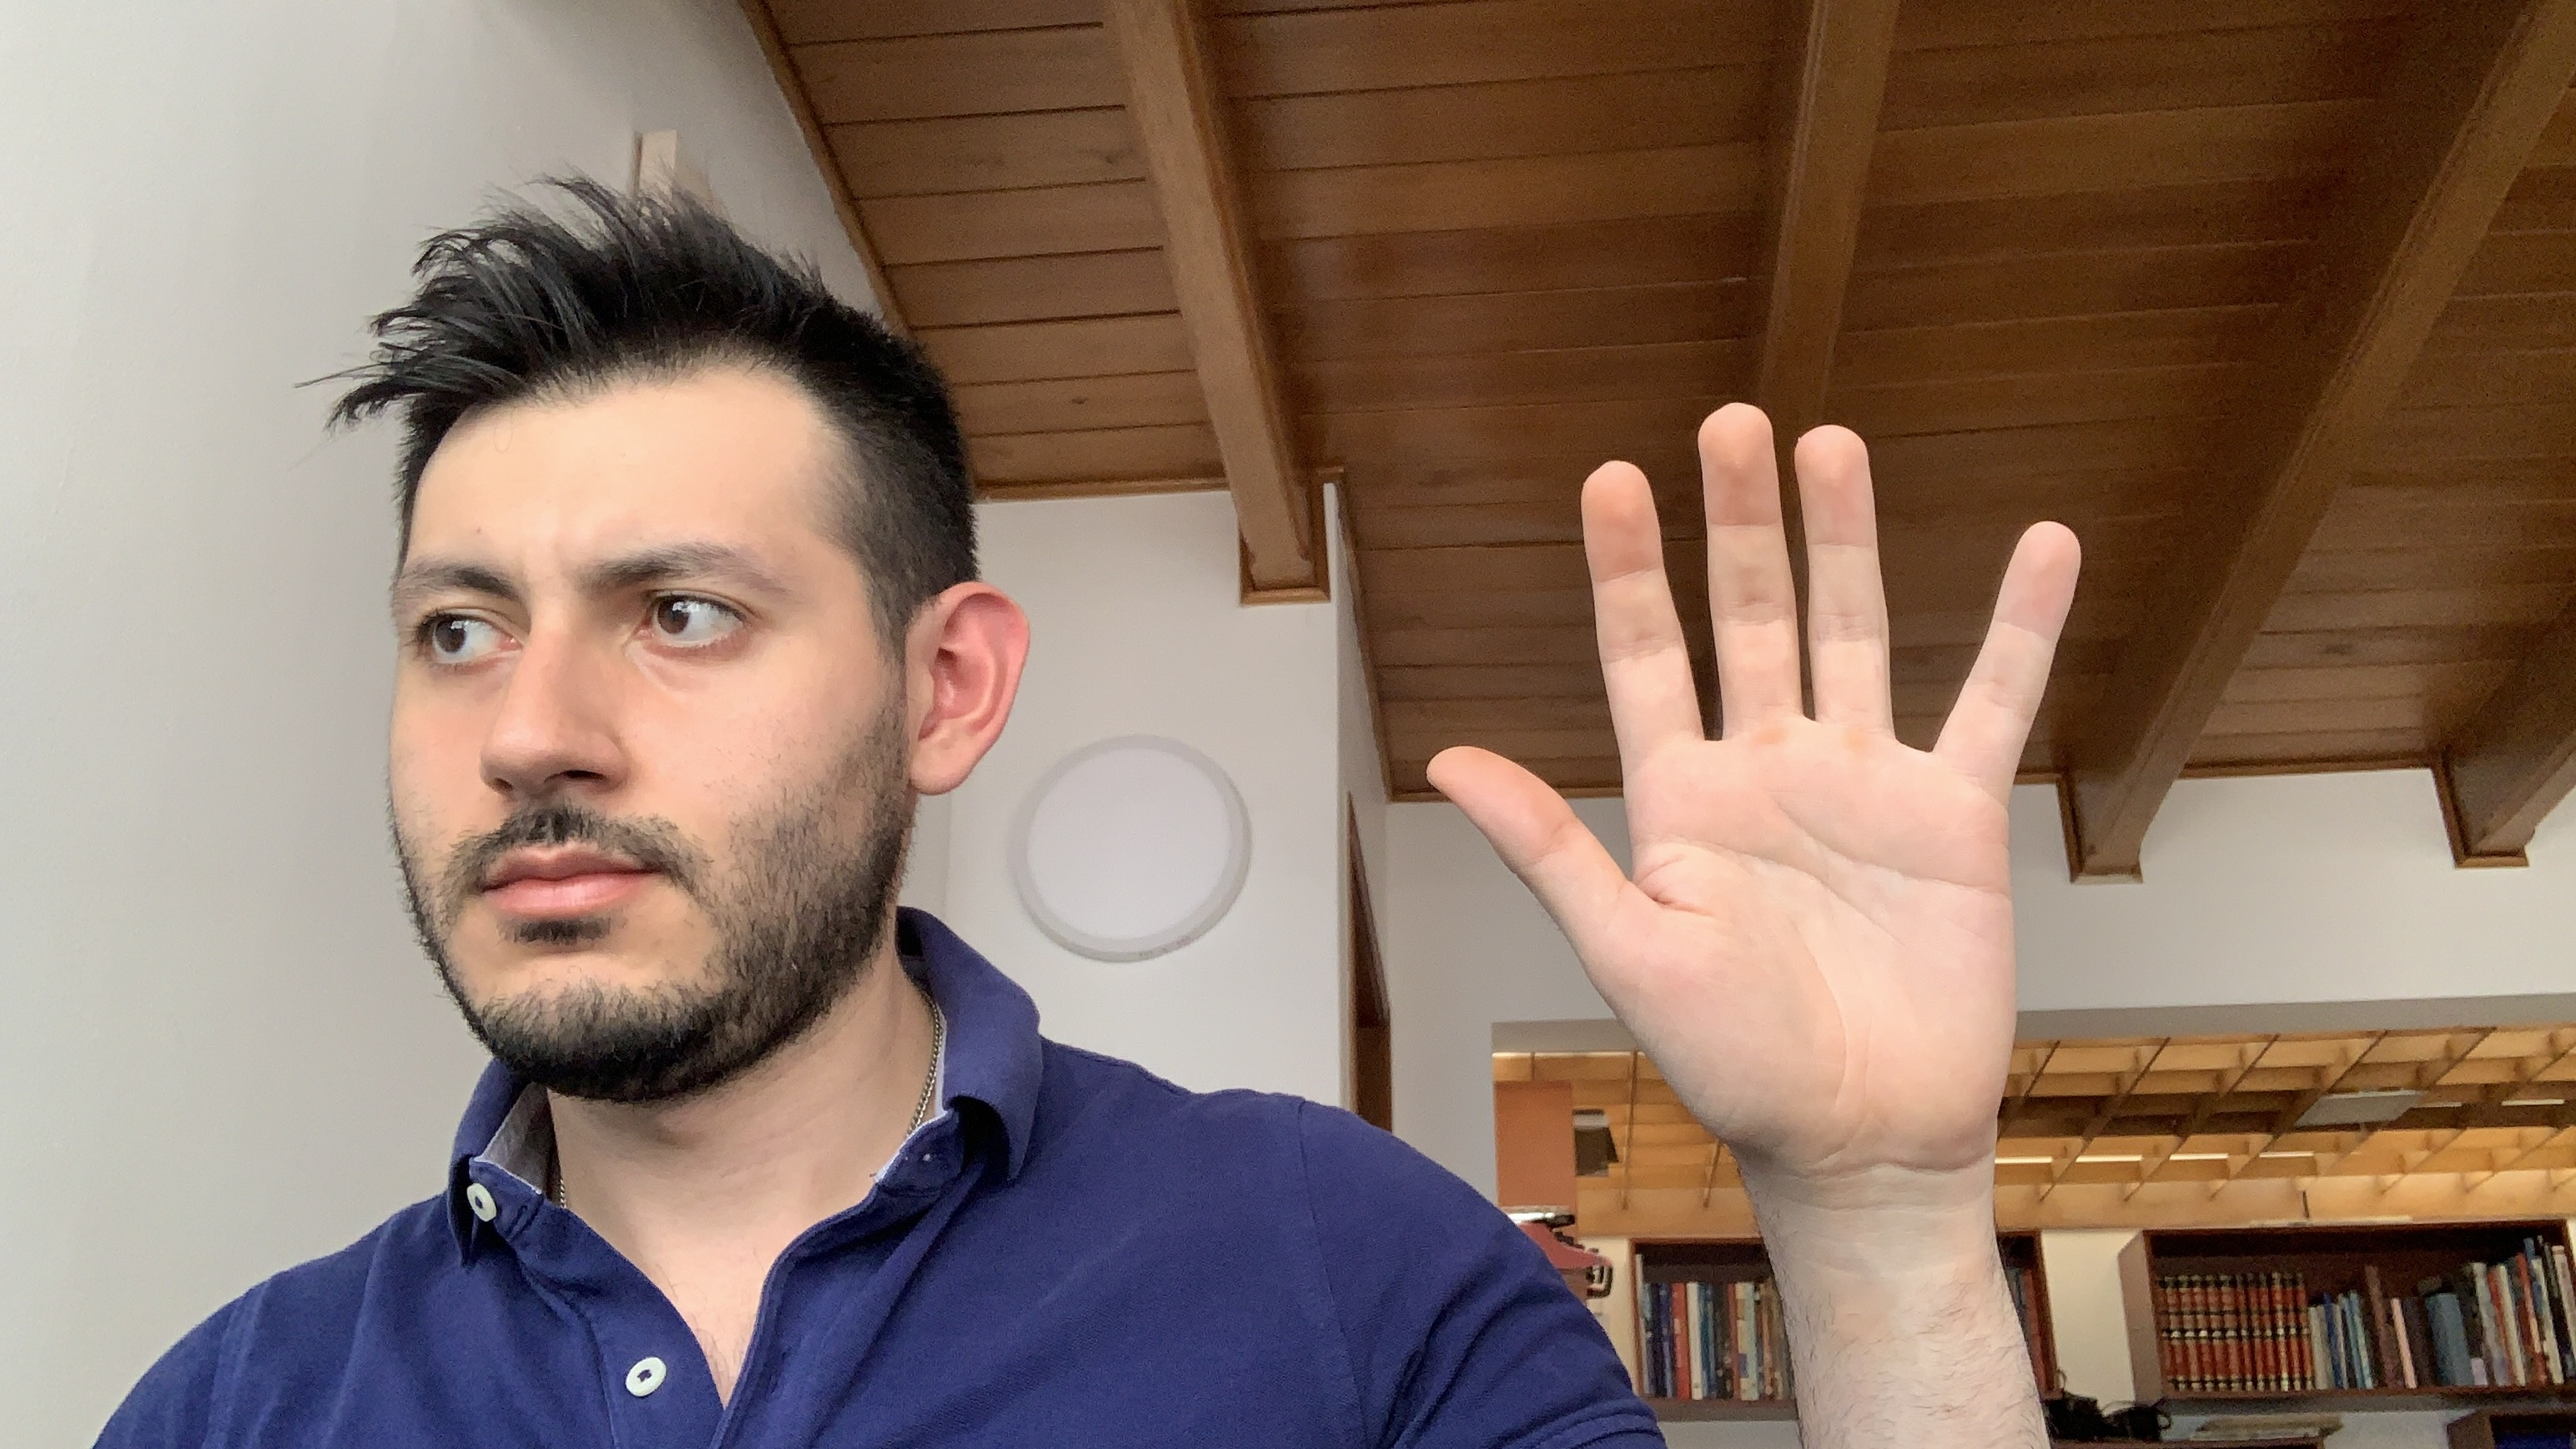Hello: (1417, 391, 2107, 1192)
